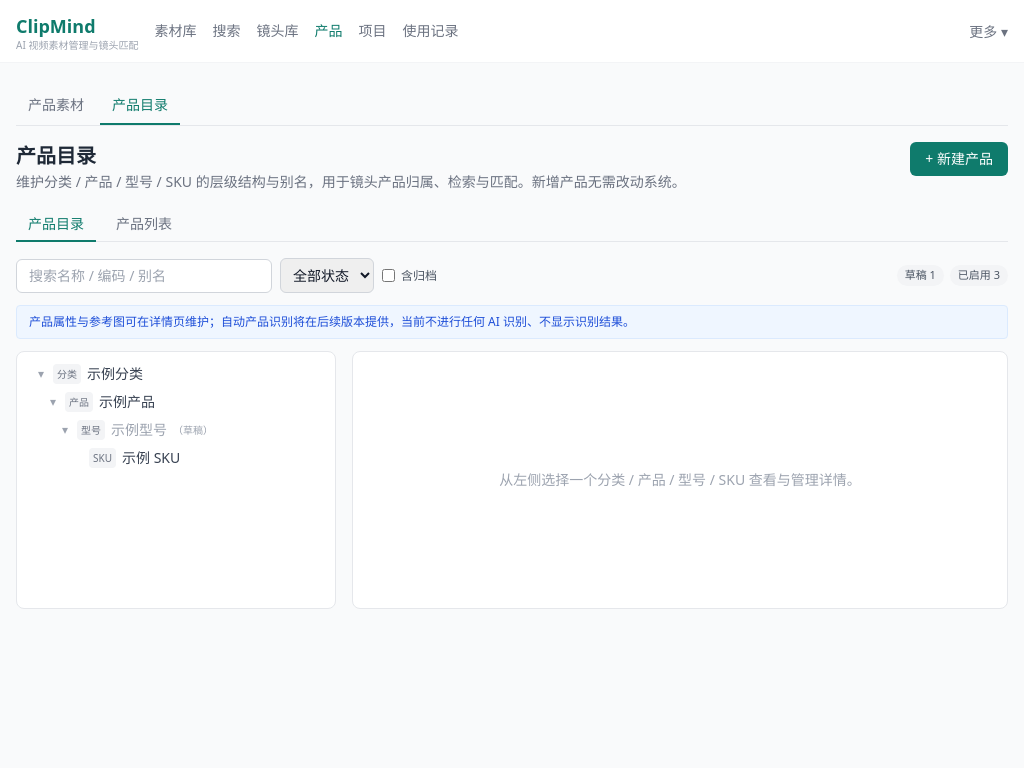
CatalogView › Tab 与既有扁平产品视图共存
The width and height of the screenshot is (1024, 768).
Expected: the tab with test id "tab-catalog" is shown, 16,208 -> 96,242
Click the tab with test id "tab-flat": [144, 225] box 104,208 -> 184,242
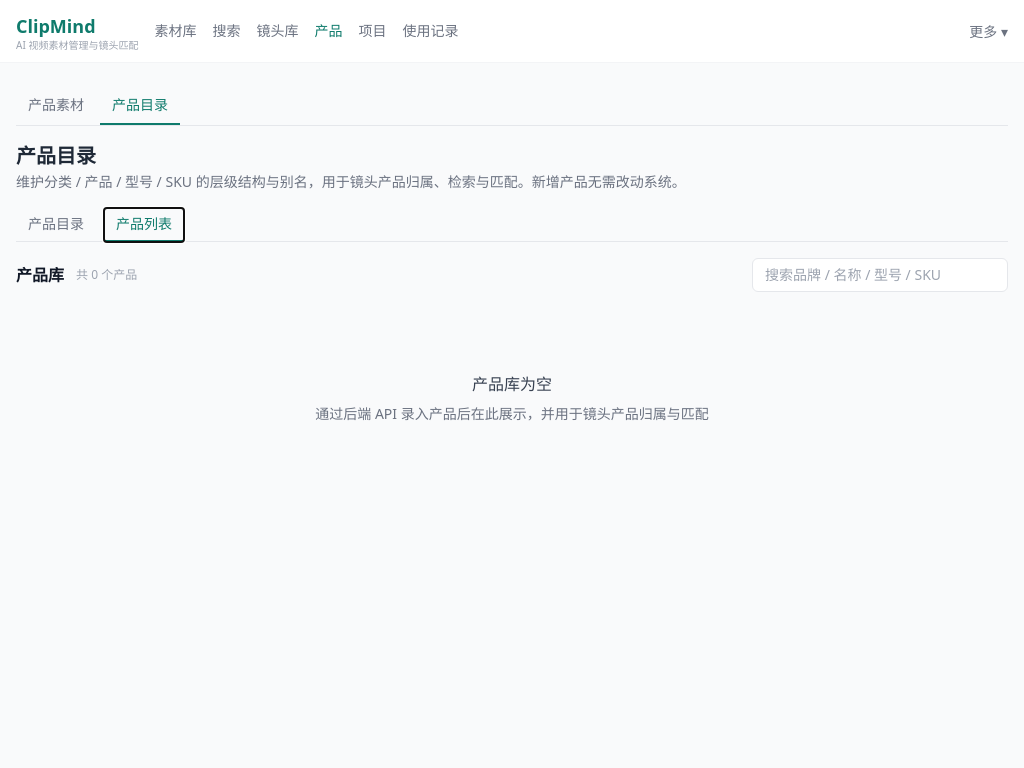
Expected: the element with test id "flat-products" is shown, 16,258 -> 1008,488
Expected: the field with test id "product-search" is shown, 752,258 -> 1008,292
